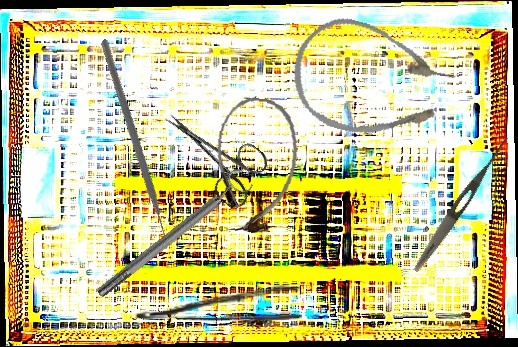Cannula: (281, 8, 464, 155), (206, 94, 304, 237)
Chopper: (20, 38, 240, 253)
Dressing Forceps: (409, 132, 513, 276), (134, 284, 302, 322)
Fixation Ring: (89, 164, 257, 305)
Iris Scissors: (146, 92, 277, 213)
